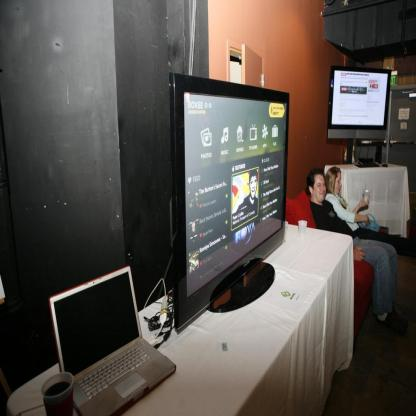board: (48, 262, 174, 416)
